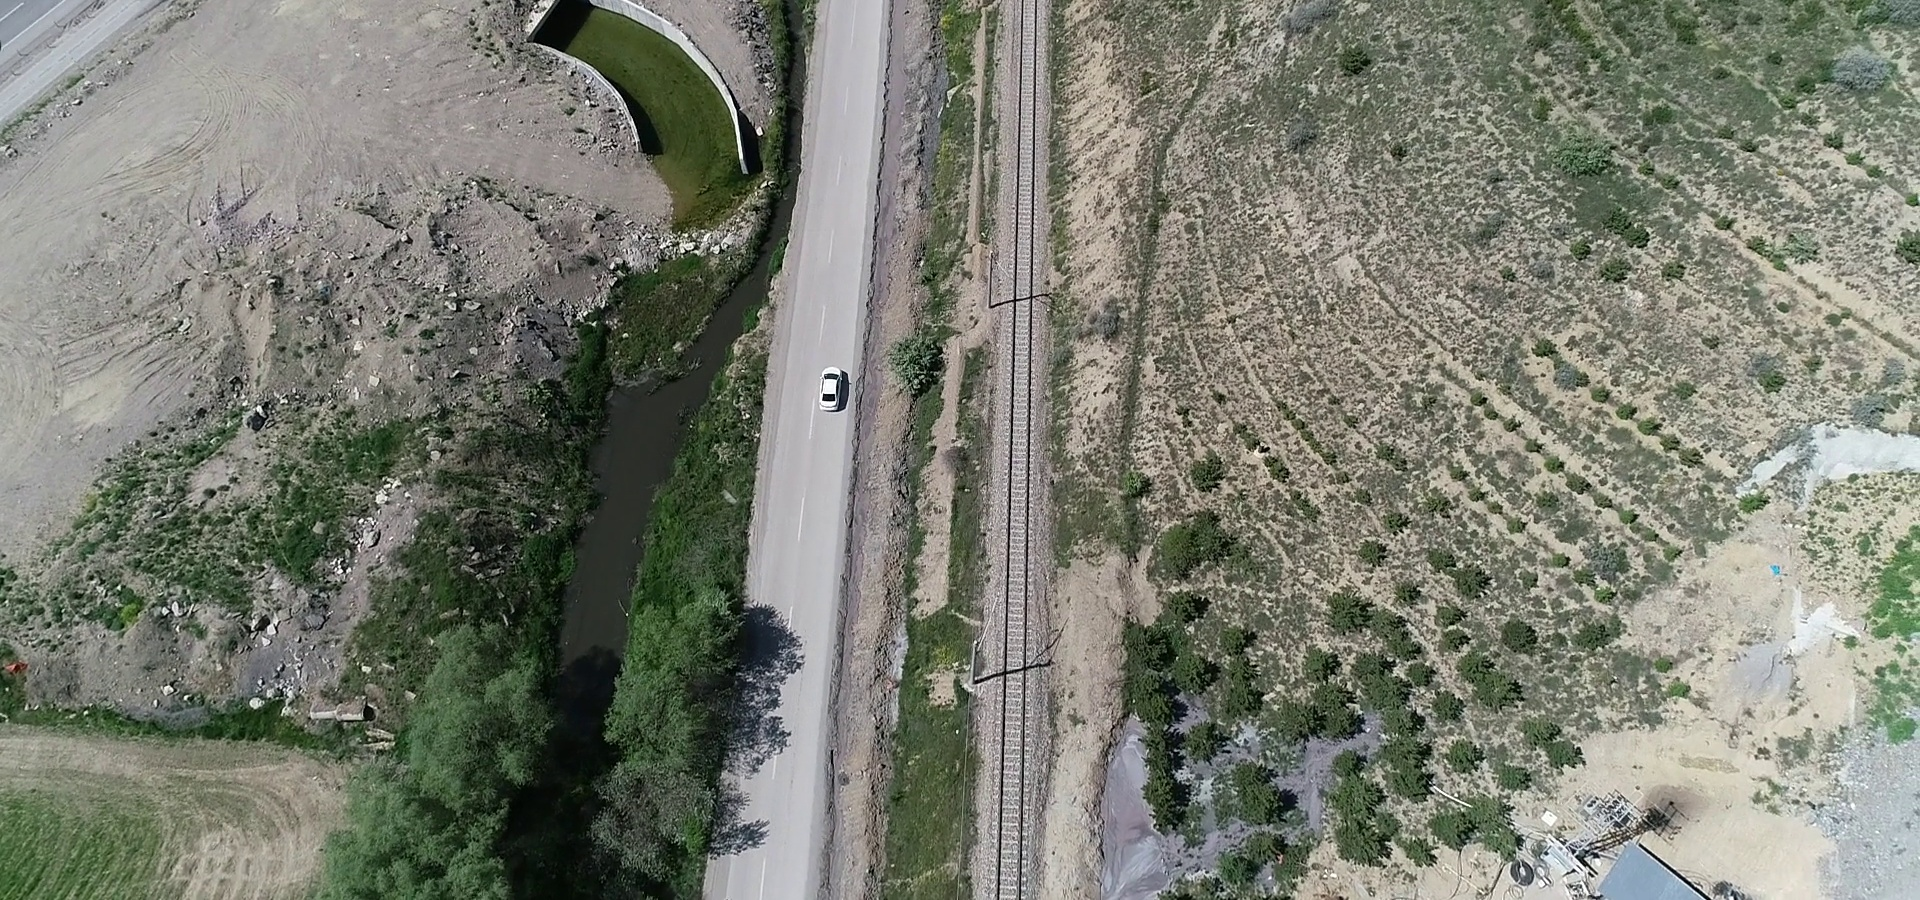araba: (804, 360, 858, 419)
